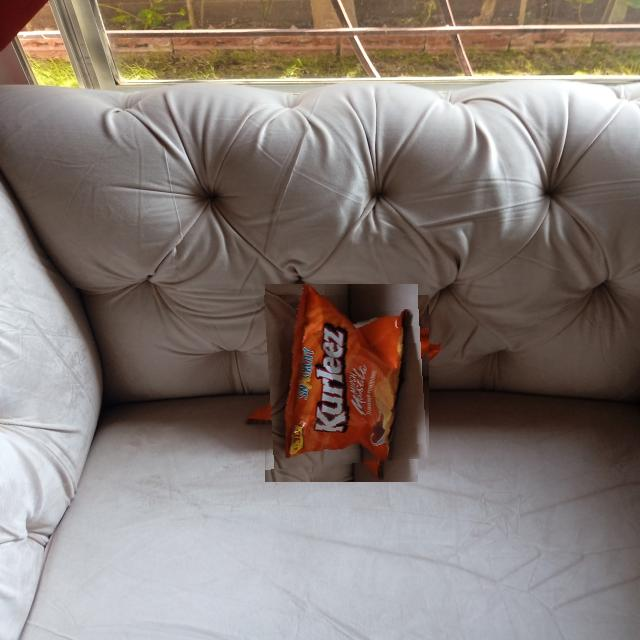Plastic: (253, 295, 430, 470)
